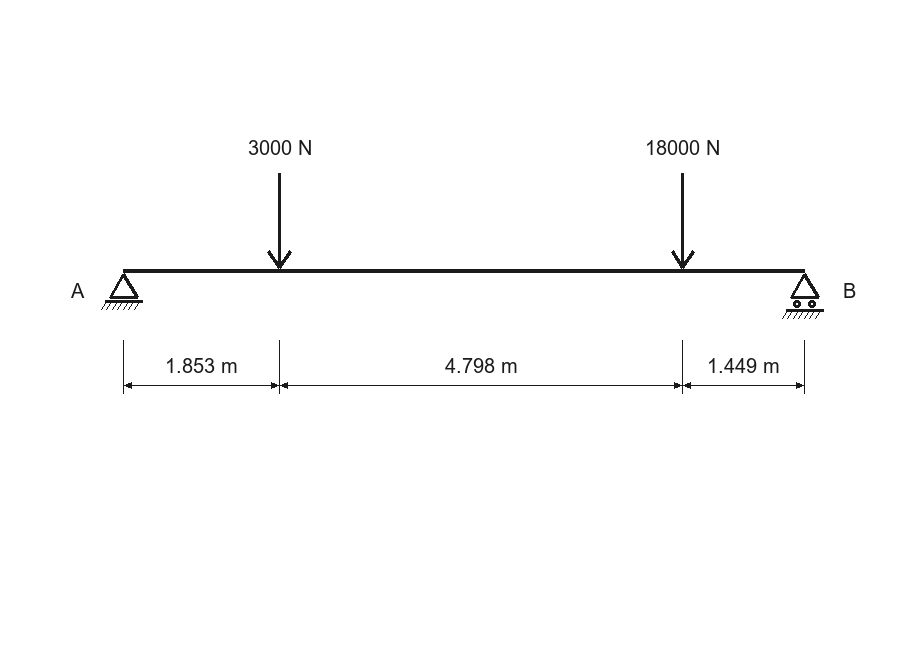pin_support: (101, 273, 143, 310)
point_load: (267, 173, 292, 269), (671, 173, 695, 269)
roller_support: (782, 273, 824, 319)
